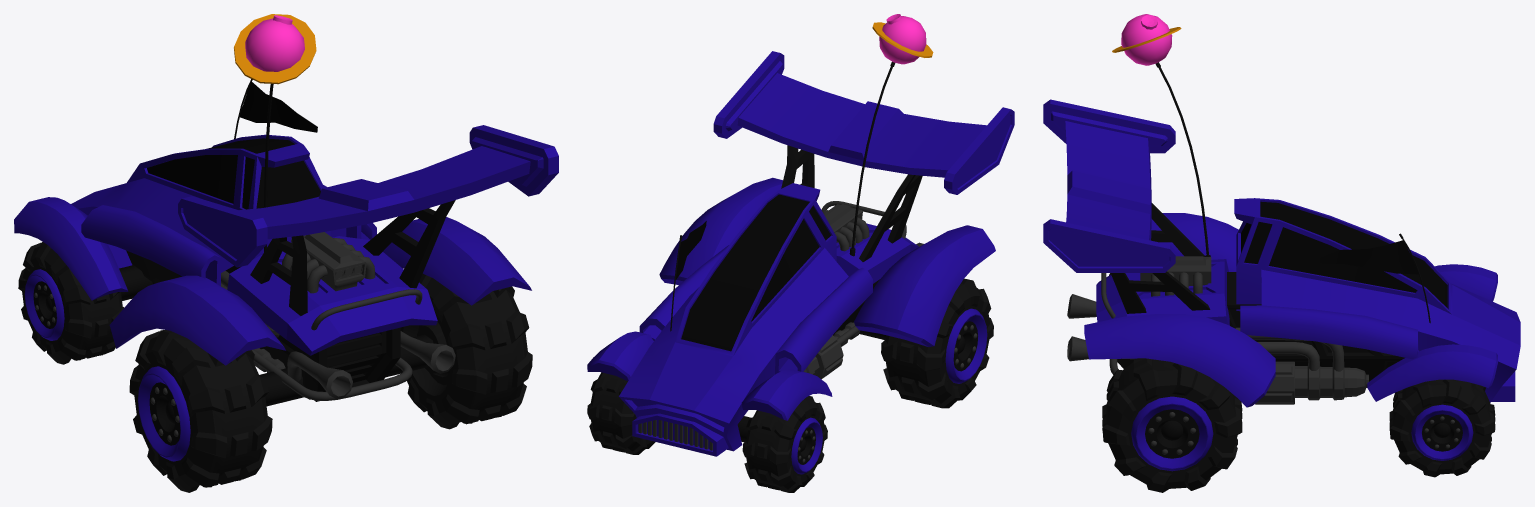
Rendered from RaceCar_Kart01.FBX.
3 views of the same model, side by side, from view 1: azimuth 30°, elevation 25°; view 2: azimuth 150°, elevation 25°; view 3: azimuth 270°, elevation 25° (orthographic). The views are drawn at different scales.
Parts seen in each view (by area): view 1: Main_Body, RaceCar_Kart, Spoiler, Tire_BackLeft, Tire_BackRight, Frame_Body, Tire_FrontLeft, Chrome_Pipes, Planet_Bobble, Engine, Flag; view 2: Main_Body, Spoiler, RaceCar_Kart, Tire_BackLeft, Tire_FrontLeft, Frame_Body, Tire_FrontRight, Chrome_Pipes, Planet_Bobble, Engine, Bobble_Pole, Flag; view 3: Main_Body, RaceCar_Kart, Spoiler, Tire_BackRight, Tire_FrontRight, Chrome_Pipes, Frame_Body, Planet_Bobble, Flag, Engine, Bobble_Pole.
Part boxes in pixels (x1,y1,x2,y2): Main_Body: [71, 134, 437, 355]; RaceCar_Kart: [14, 197, 531, 365]; Spoiler: [178, 125, 558, 267]; Tire_BackLeft: [129, 330, 272, 492]; Tire_BackRight: [400, 274, 532, 429]; Frame_Body: [119, 200, 455, 406]; Tire_FrontLeft: [18, 242, 124, 364]; Chrome_Pipes: [221, 271, 455, 400]; Planet_Bobble: [234, 14, 316, 84]; Engine: [282, 232, 375, 293]; Flag: [240, 82, 317, 132]; Main_Body: [619, 183, 918, 456]; Spoiler: [713, 51, 1014, 194]; RaceCar_Kart: [587, 177, 995, 420]; Tire_BackLeft: [881, 278, 993, 408]; Tire_FrontLeft: [742, 396, 827, 492]; Frame_Body: [737, 145, 922, 442]; Tire_FrontRight: [587, 372, 655, 454]; Chrome_Pipes: [638, 201, 923, 450]; Planet_Bobble: [872, 14, 933, 64]; Engine: [822, 204, 869, 251]; Bobble_Pole: [849, 61, 895, 256]; Flag: [676, 221, 706, 279]; Main_Body: [1096, 198, 1520, 402]; RaceCar_Kart: [1084, 213, 1497, 407]; Spoiler: [1043, 99, 1175, 272]; Tire_BackRight: [1102, 358, 1242, 492]; Tire_FrontRight: [1389, 379, 1495, 477]; Chrome_Pipes: [1067, 273, 1368, 404]; Frame_Body: [1110, 203, 1404, 381]; Planet_Bobble: [1112, 14, 1181, 65]; Flag: [1319, 240, 1418, 274]; Engine: [1140, 256, 1211, 296]; Bobble_Pole: [1155, 62, 1210, 256].
Size of the model in its own units: 131 by 167 by 187.
